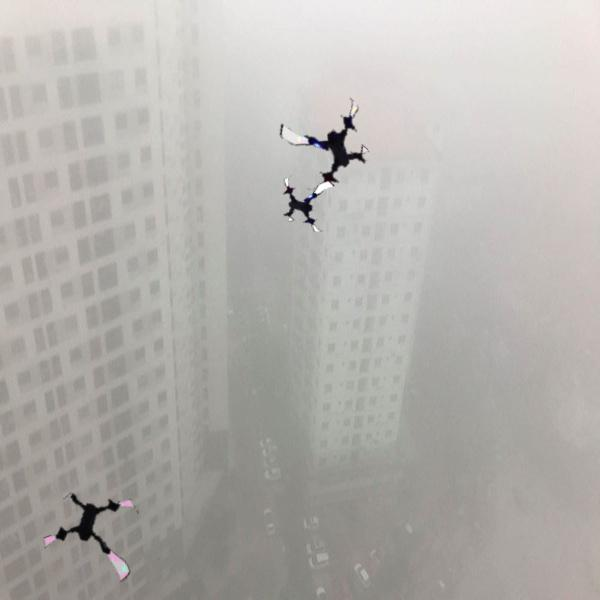drone: (39, 481, 152, 594), (272, 86, 378, 192), (279, 170, 347, 238)
